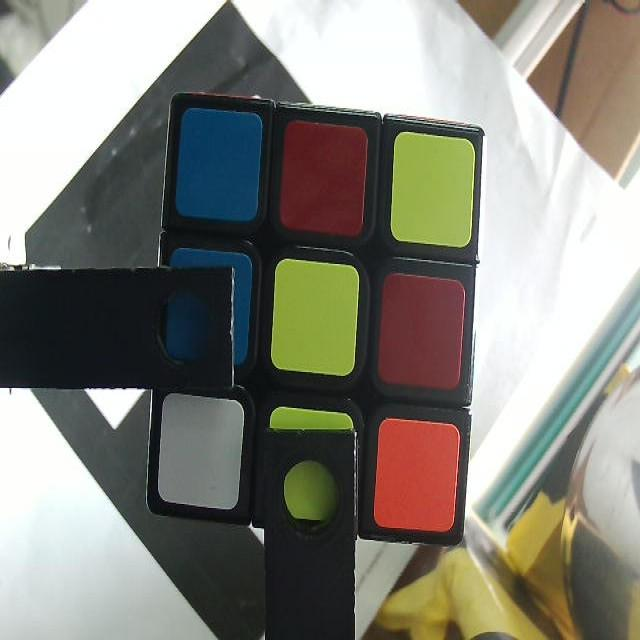b: (167, 251, 251, 368), (176, 107, 259, 222)
o: (376, 422, 459, 530)
r: (280, 112, 366, 236), (378, 277, 464, 388)
w: (157, 395, 244, 510)
y: (272, 256, 358, 380), (266, 408, 353, 526), (391, 132, 474, 247)
